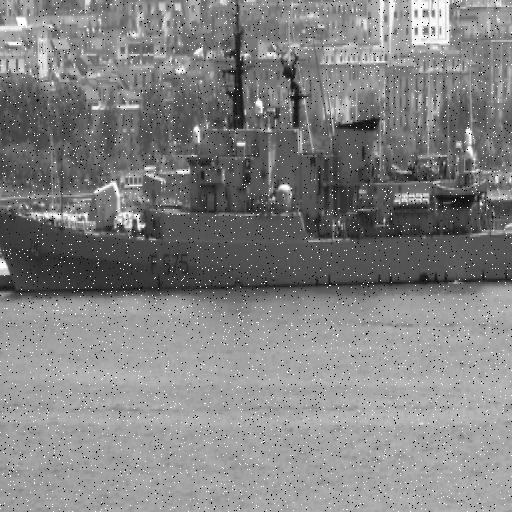Fragata: (1, 1, 512, 306)
